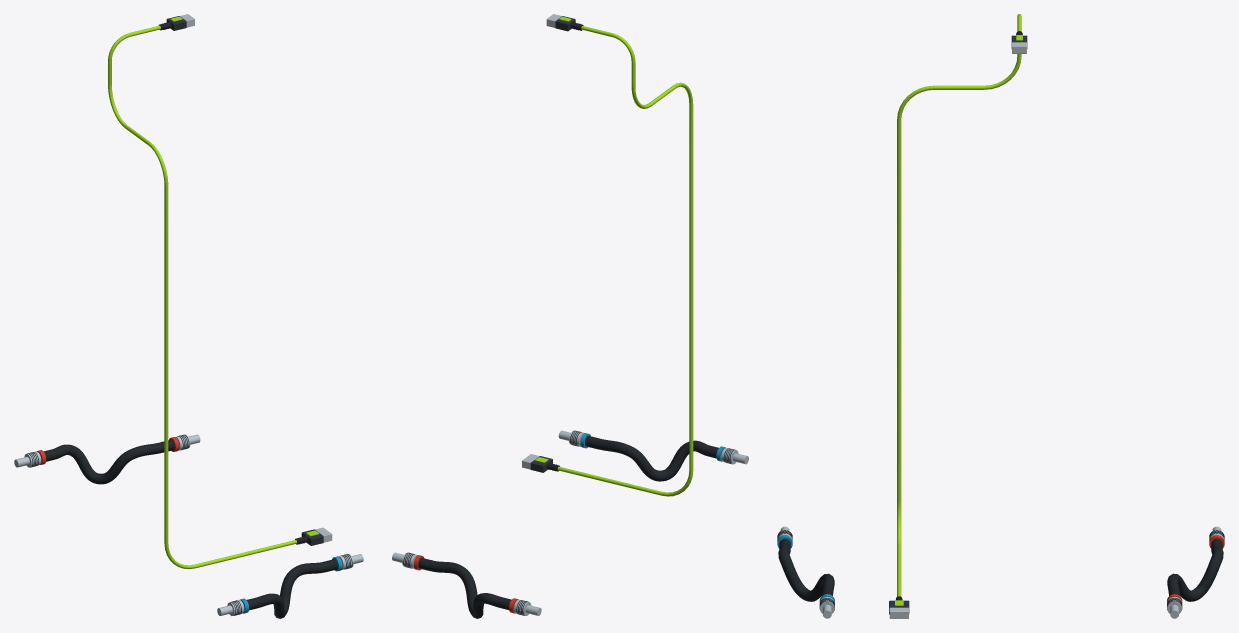
File: SM_GJ_Harness_08.fbx
The picture shows the model from 3 angles, left to right: view 1: azimuth 30°, elevation 25°; view 2: azimuth 150°, elevation 25°; view 3: azimuth 270°, elevation 25°; orthographic projection. The views are drawn at different scales.
Parts seen in each view (by area): view 1: SM_GJ_Harness_08; view 2: SM_GJ_Harness_08; view 3: SM_GJ_Harness_08.
Part boxes in pixels (x1,y1,x2,y2): SM_GJ_Harness_08: [14, 14, 363, 618]; SM_GJ_Harness_08: [392, 14, 748, 618]; SM_GJ_Harness_08: [777, 14, 1224, 618].
Bounding box in the file's own units: 22.73 × 50.76 × 70.15.
